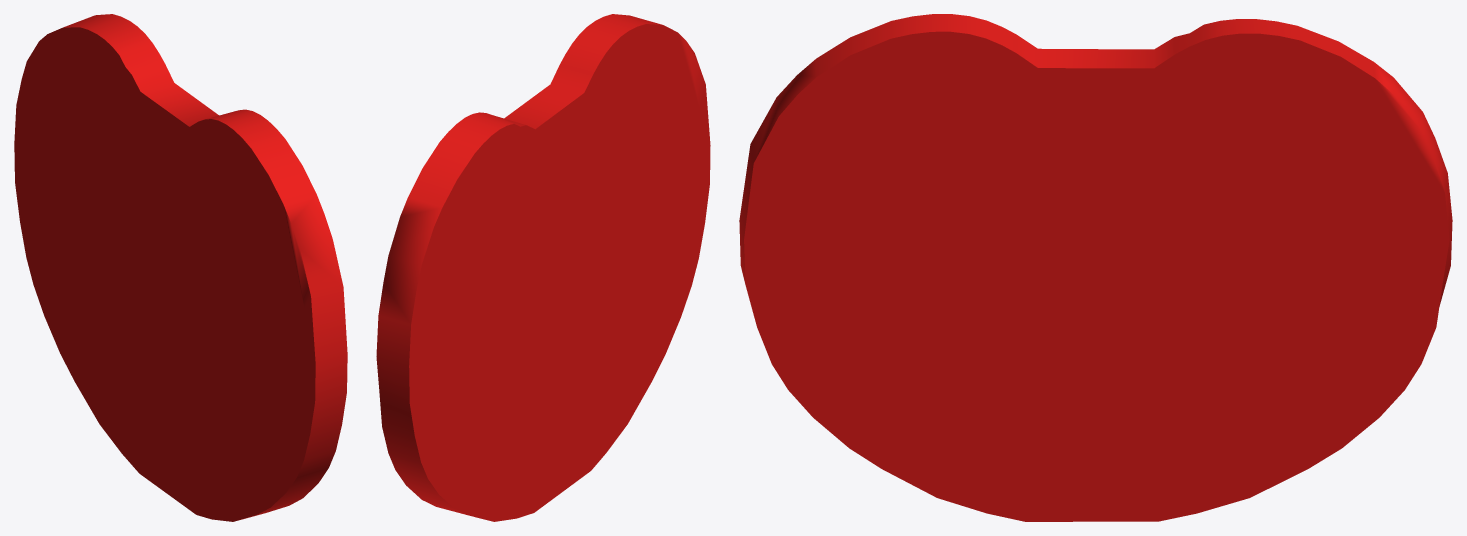
The model's file is Tomatoe_Slice.fbx.
The picture shows the model from 3 angles, left to right: view 1: azimuth 30°, elevation 25°; view 2: azimuth 150°, elevation 25°; view 3: azimuth 270°, elevation 25°; orthographic projection. The views are drawn at different scales.
Parts seen in each view (by area): view 1: Tomato_01.003; view 2: Tomato_01.003; view 3: Tomato_01.003.
Boxes of the visible parts, <box> form: Tomato_01.003: <box>14,14,347,521</box>; Tomato_01.003: <box>376,14,710,521</box>; Tomato_01.003: <box>739,14,1452,521</box>.
Size of the model in its own units: 0.0325 by 0.3791 by 0.4998.
